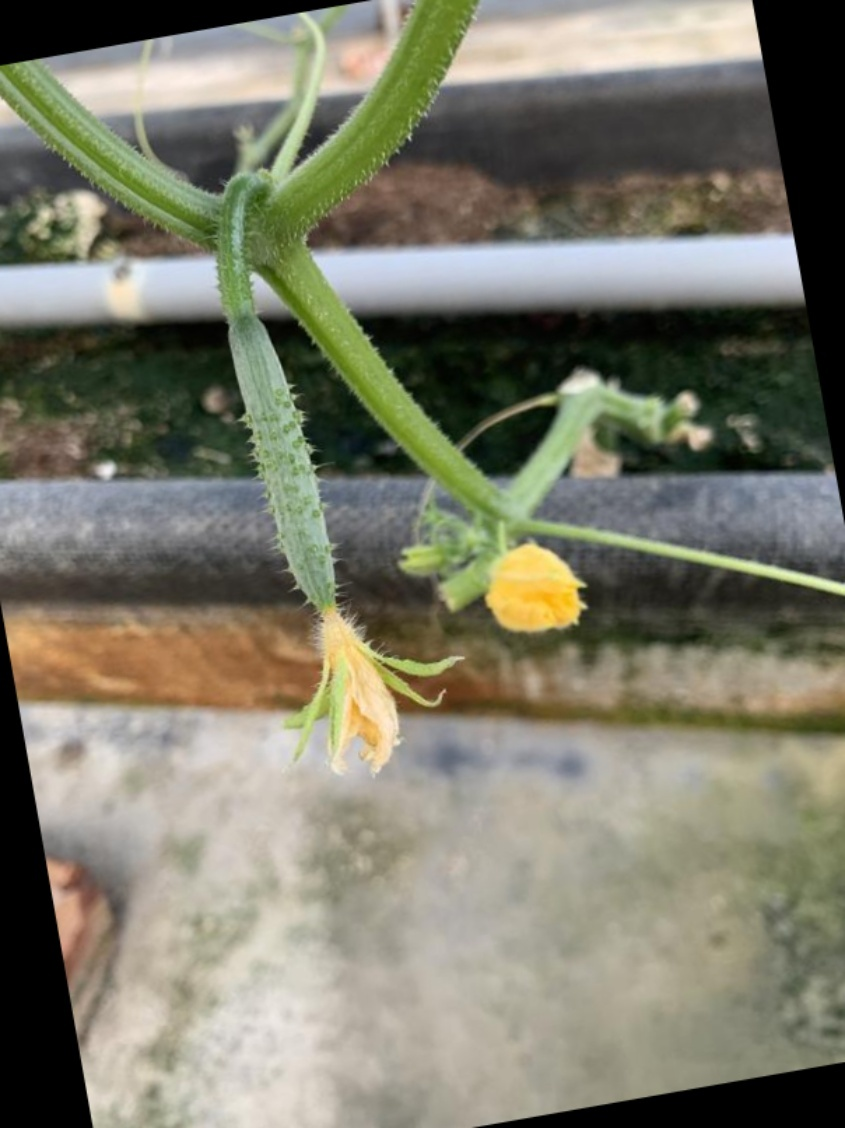bear: (198, 260, 449, 786)
